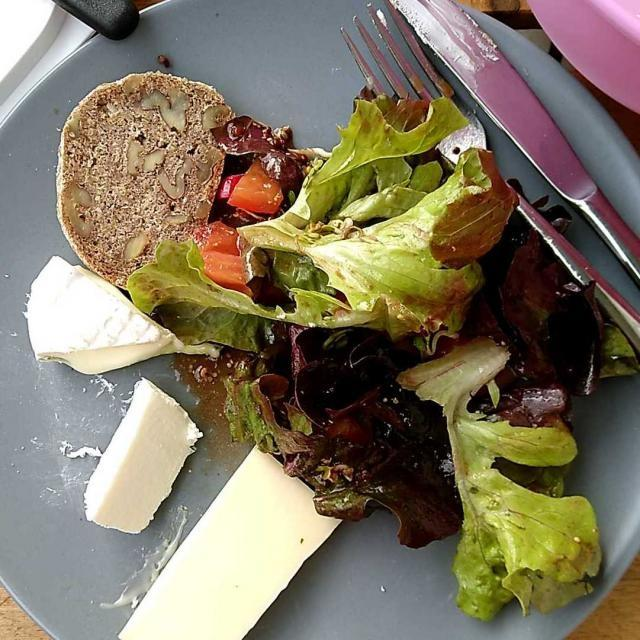bread: (60, 64, 255, 291)
cheese: (17, 258, 217, 531), (114, 443, 356, 635)
salad: (103, 72, 622, 605)
